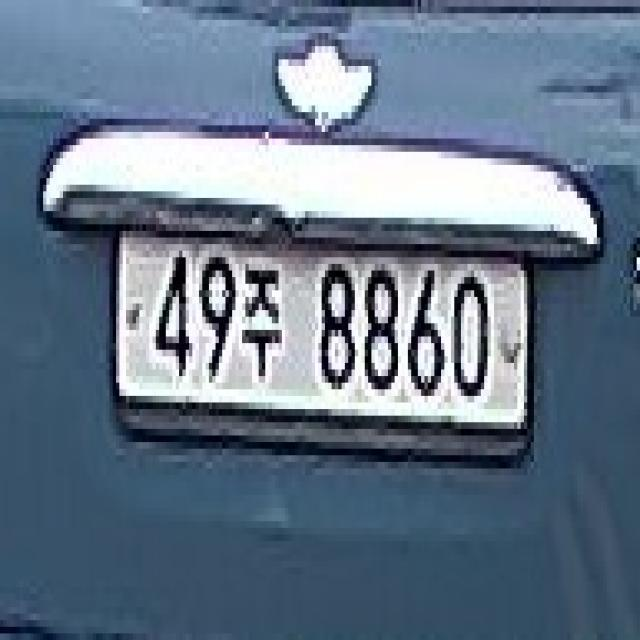0: (451, 270, 490, 405)
4: (152, 250, 195, 381)
6: (406, 264, 444, 402)
8: (362, 264, 401, 404), (318, 262, 358, 392)
9: (200, 248, 237, 384)
ju: (242, 255, 284, 383)
license_plate: (104, 226, 540, 457)
